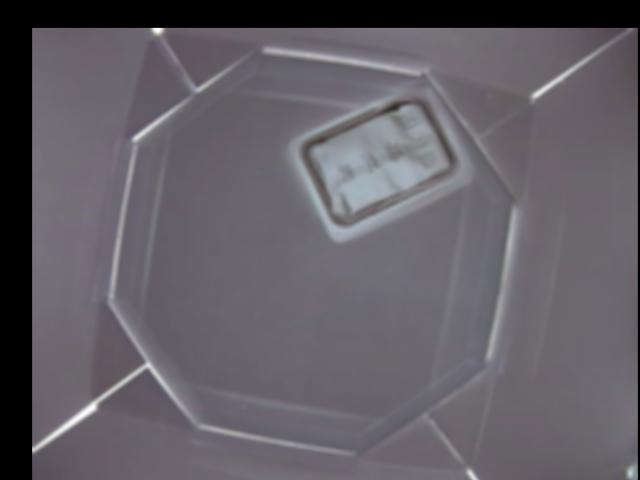Medicine: (290, 79, 470, 242)
